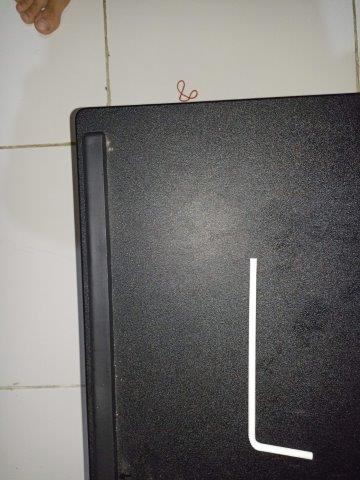karet: (176, 77, 198, 102)
sedotan: (248, 259, 312, 460)
